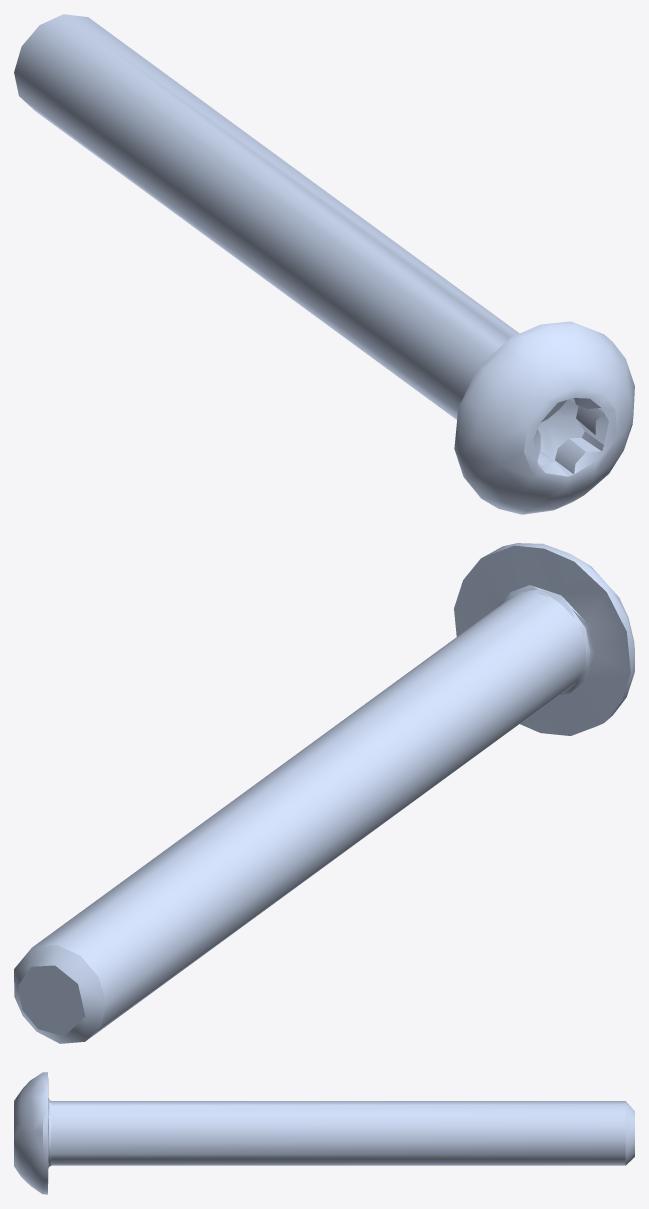
The model's file is _8-32_x_1_500_Star_Drive_Screw__276-4998_.glb.
The picture shows the model from 3 angles, top to bottom: view 1: azimuth 30°, elevation 25°; view 2: azimuth 150°, elevation 25°; view 3: azimuth 270°, elevation 25°; orthographic projection. The views are drawn at different scales.
Parts seen in each view (by area): view 1: #8-32 x 1.500 Star Drive Screw (276-4998); view 2: #8-32 x 1.500 Star Drive Screw (276-4998); view 3: #8-32 x 1.500 Star Drive Screw (276-4998).
Part boxes in pixels (box(x1,y1,x2,y2)): #8-32 x 1.500 Star Drive Screw (276-4998): box(14, 14, 634, 514); #8-32 x 1.500 Star Drive Screw (276-4998): box(14, 543, 634, 1043); #8-32 x 1.500 Star Drive Screw (276-4998): box(14, 1072, 634, 1194).
Bounding box in the file's own units: 0.3123 × 0.3131 × 1.59.
